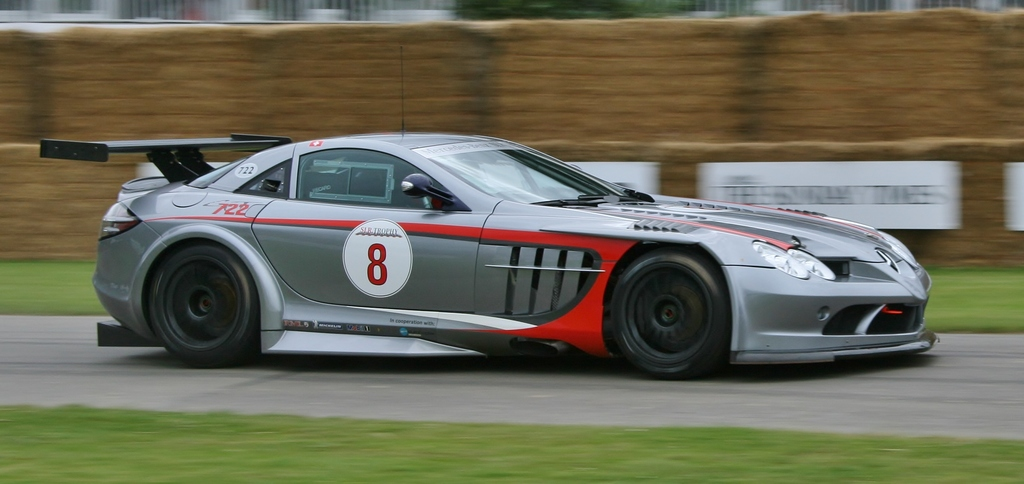mobil: (81, 97, 942, 405)
